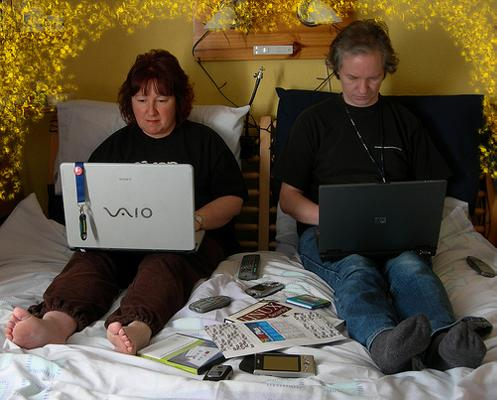person: (278, 20, 491, 374)
